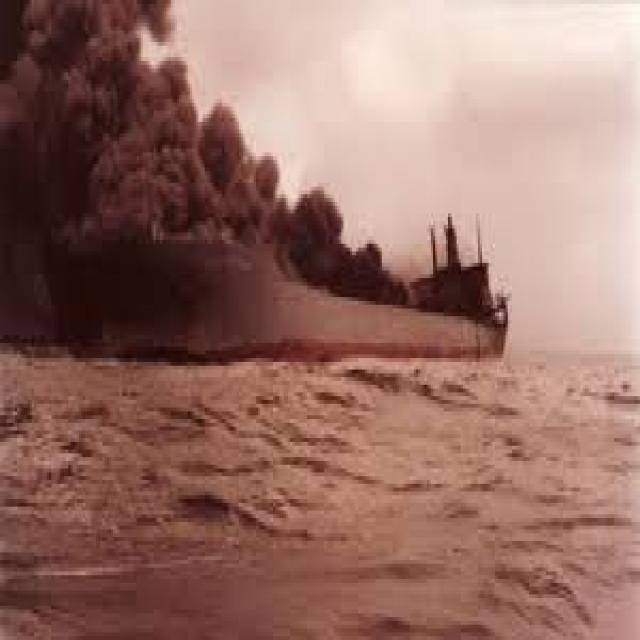cargoship: (78, 123, 530, 391)
